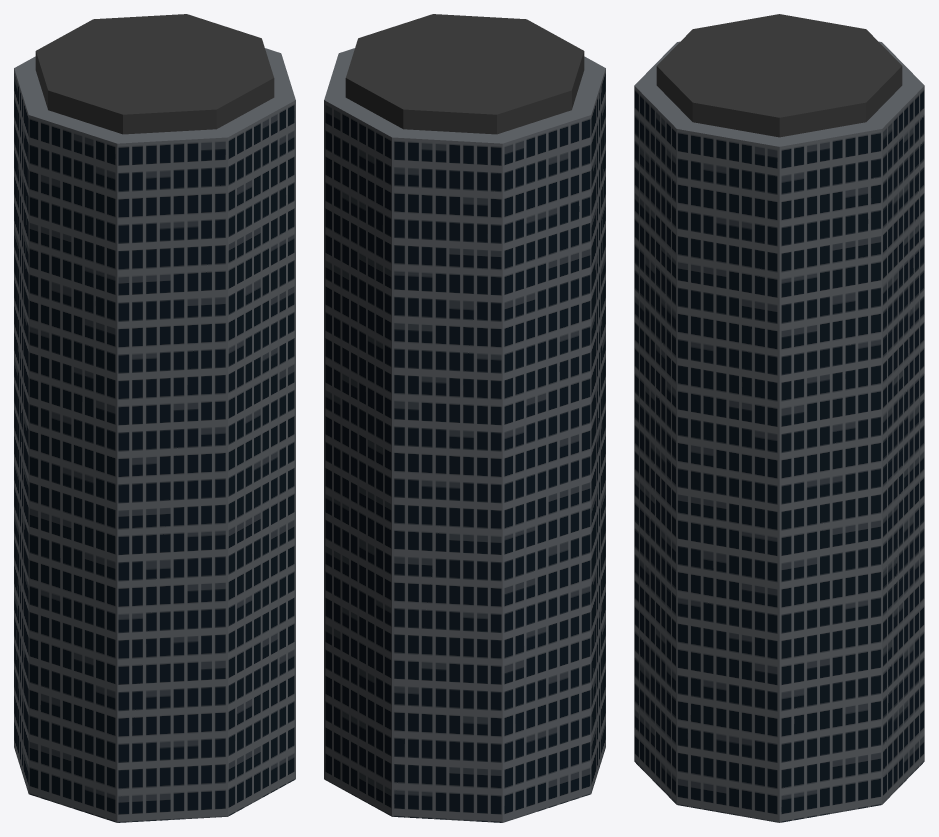
The model's file is SM_Env_Background_Building_Round_02.fbx.
3 renders of one model, left to right at view 1: azimuth 30°, elevation 25°; view 2: azimuth 150°, elevation 25°; view 3: azimuth 270°, elevation 25°, orthographic.
Visible parts, largest first — view 1: SM_Env_Background_Building_Round_02; view 2: SM_Env_Background_Building_Round_02; view 3: SM_Env_Background_Building_Round_02.
Part boxes in pixels (bbox=[...]): SM_Env_Background_Building_Round_02: bbox=[14, 14, 295, 822]; SM_Env_Background_Building_Round_02: bbox=[324, 14, 605, 822]; SM_Env_Background_Building_Round_02: bbox=[634, 14, 924, 822].
Size of the model in its own units: 2276 by 6020 by 2276.
